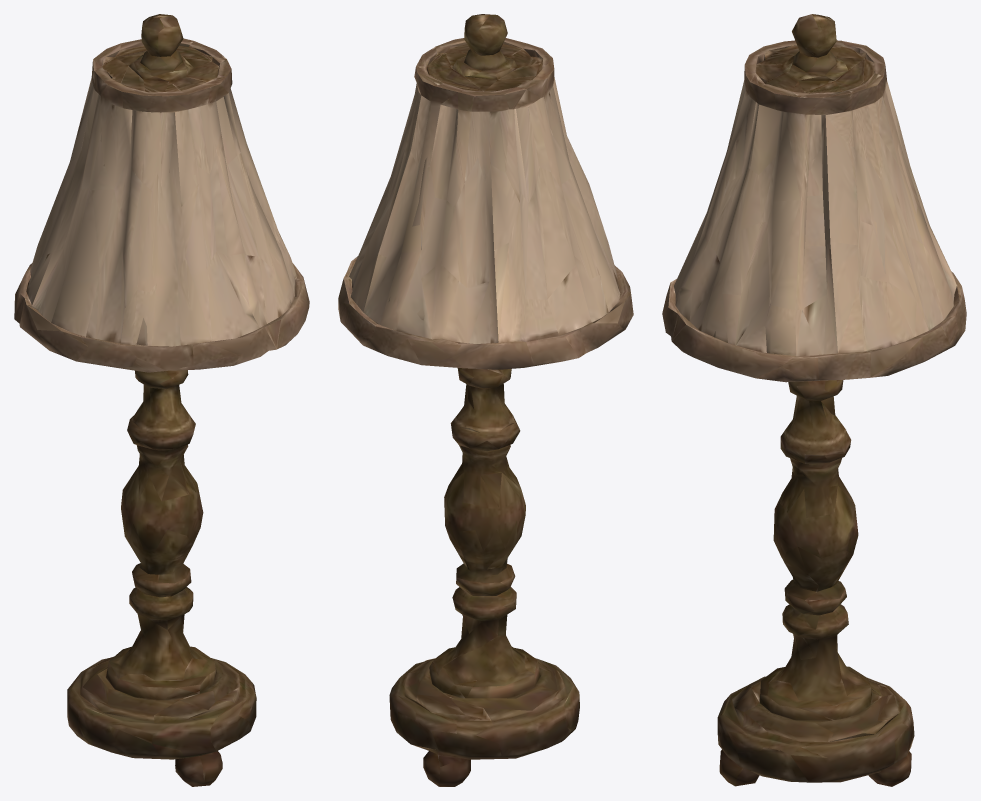
Rendered from h_table_lamp.glb.
3 renders of one model, left to right at view 1: azimuth 30°, elevation 25°; view 2: azimuth 150°, elevation 25°; view 3: azimuth 270°, elevation 25°, orthographic. The views are drawn at different scales.
Visible parts, largest first — view 1: h_table_lamp; view 2: h_table_lamp; view 3: h_table_lamp.
Boxes of the visible parts, x1,y1,x2,y2 form: h_table_lamp: [14, 14, 309, 786]; h_table_lamp: [338, 14, 633, 786]; h_table_lamp: [662, 14, 966, 786].
Bounding box in the file's own units: 0.2007 × 0.55 × 0.1987.
Materials: 1 (1 with a texture image).
